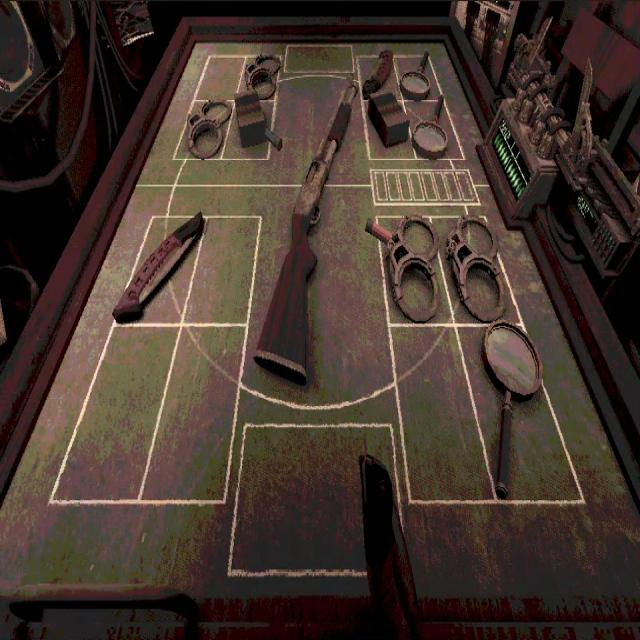ally: (0, 176, 636, 617)
cigar: (367, 93, 409, 146), (236, 91, 269, 146)
doubledamage: (113, 213, 203, 322), (362, 49, 393, 98)
emptyspace: (50, 327, 176, 501), (390, 322, 497, 504), (141, 323, 247, 500), (184, 214, 260, 325), (194, 52, 243, 102)
enemyspace: (141, 35, 486, 177)
gun: (263, 81, 357, 386)
handcuff: (384, 215, 439, 322), (447, 216, 500, 311), (186, 100, 232, 158), (244, 54, 281, 89)
lens: (483, 322, 542, 488), (413, 95, 449, 156), (399, 52, 430, 99)
